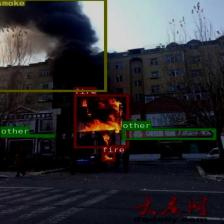fire: (73, 94, 129, 148), (101, 152, 115, 162)
smoke: (0, 0, 106, 91)
